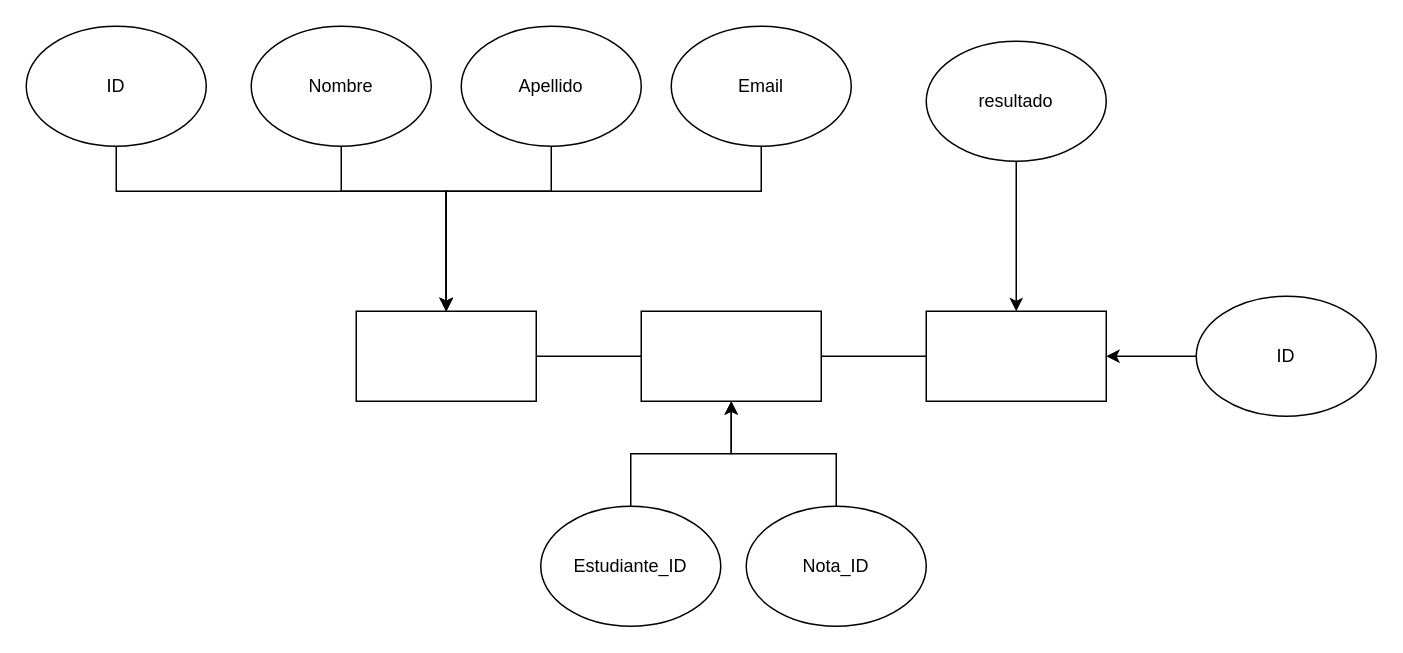
This 1403x653 diagram has some shape labels left out. Each missing label, with the centre of its shape:
"Estudiante" goes at point (445, 355).
"Libreta" goes at point (730, 355).
"Nota" goes at point (1015, 355).
